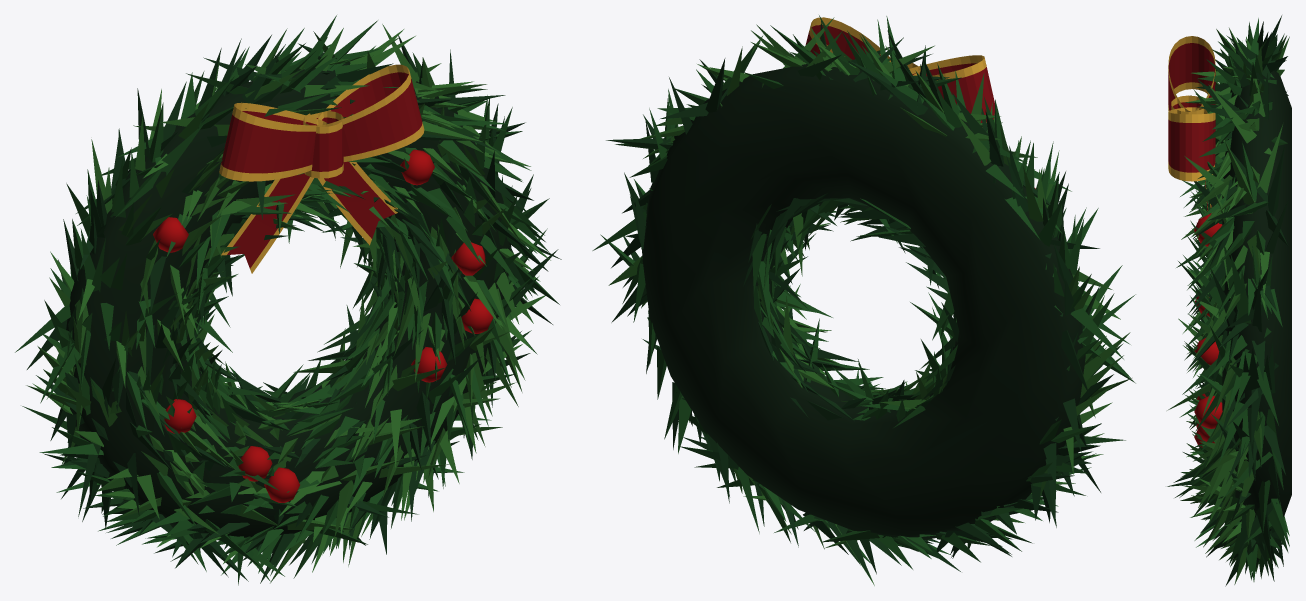
Rendered from wreath.opt.glb.
The picture shows the model from 3 angles, left to right: view 1: azimuth 30°, elevation 25°; view 2: azimuth 150°, elevation 25°; view 3: azimuth 270°, elevation 25°; orthographic projection. The views are drawn at different scales.
Visible parts, largest first — view 1: ChristmasWreath; view 2: ChristmasWreath; view 3: ChristmasWreath.
Boxes of the visible parts, <box> form: ChristmasWreath: <box>15,15,561,585</box>; ChristmasWreath: <box>592,15,1135,585</box>; ChristmasWreath: <box>1167,15,1291,586</box>.
Size of the model in its own units: 0.7386 by 0.7416 by 0.1617.
